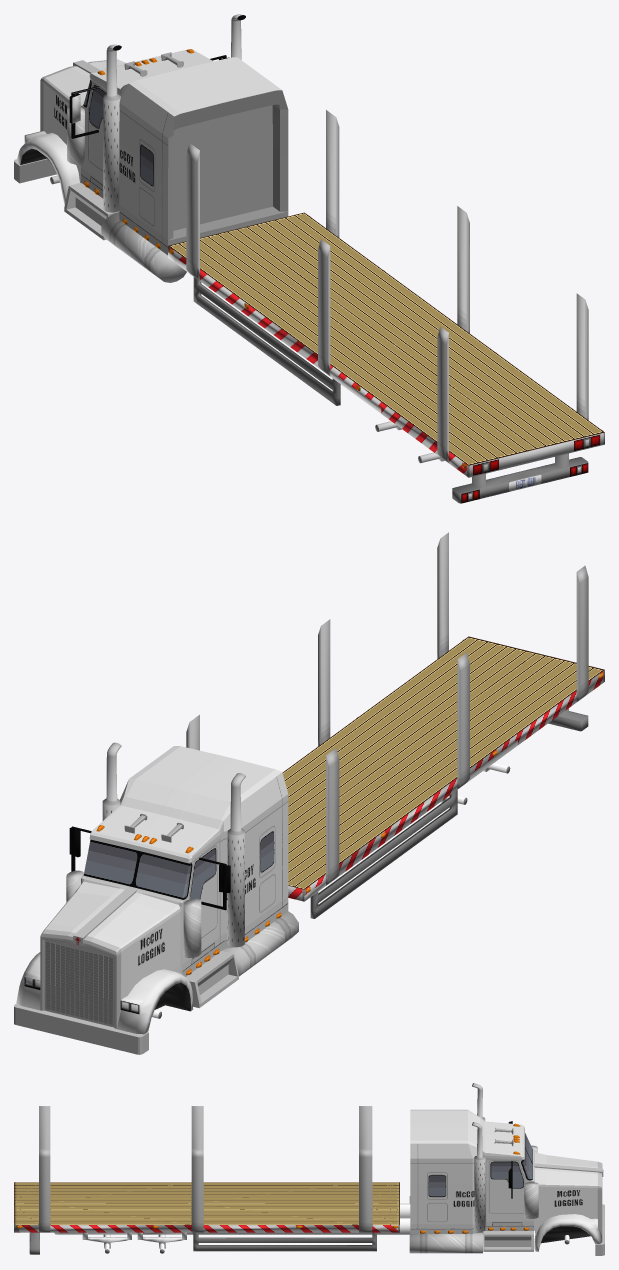
Rendered from 88w900logcarrier2.fbx.
The picture shows the model from 3 angles, top to bottom: view 1: azimuth 30°, elevation 25°; view 2: azimuth 150°, elevation 25°; view 3: azimuth 270°, elevation 25°; orthographic projection. The views are drawn at different scales.
Parts seen in each view (by area): view 1: 88W900logcarrier2; view 2: 88W900logcarrier2; view 3: 88W900logcarrier2.
Part boxes in pixels (bbox=[...]): 88W900logcarrier2: bbox=[14, 14, 604, 503]; 88W900logcarrier2: bbox=[14, 532, 604, 1054]; 88W900logcarrier2: bbox=[14, 1083, 604, 1255].
Size of the model in its own units: 2.89 by 3.71 by 14.4.
